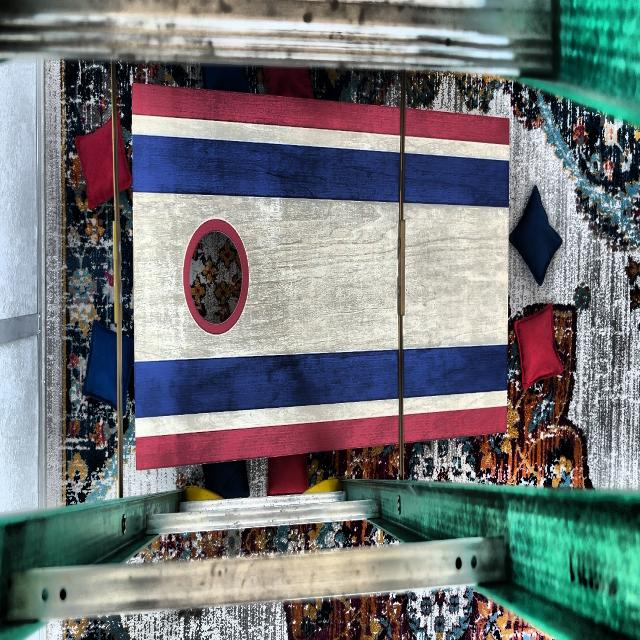blue-bean-bag: (511, 186, 564, 284), (82, 318, 132, 416), (203, 461, 250, 498), (202, 63, 250, 93)
board: (137, 121, 506, 431)
hole: (183, 218, 250, 335)
red-bean-bag: (73, 113, 132, 210), (514, 305, 566, 390), (266, 454, 310, 495), (263, 64, 315, 98)
